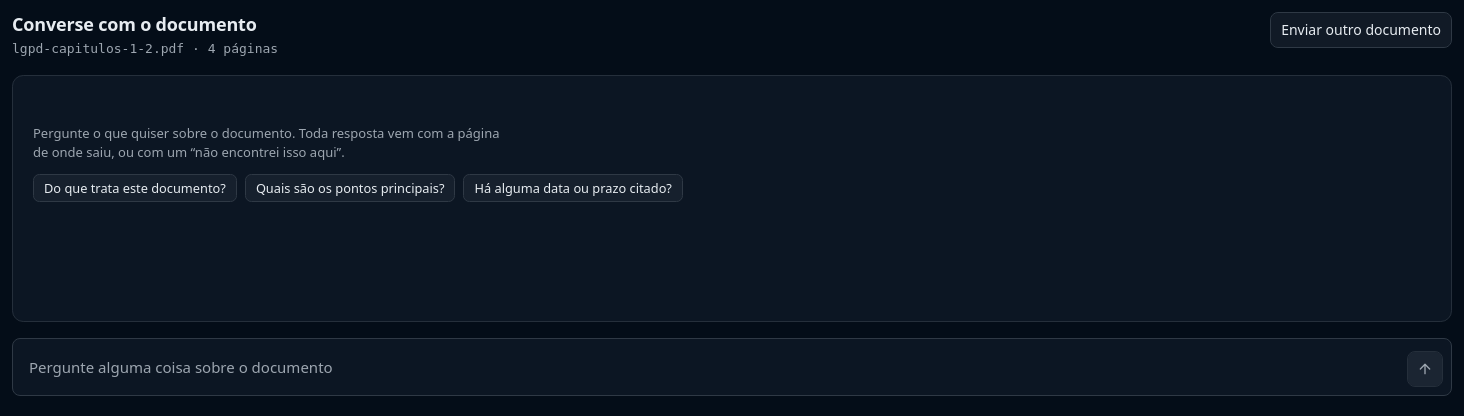
Test case: ChatView › cancela a resposta em andamento, preservando o que já chegou
Click the text box named "Sua pergunta sobre o documento".
click(710, 367)  # box 21,347 -> 1399,387
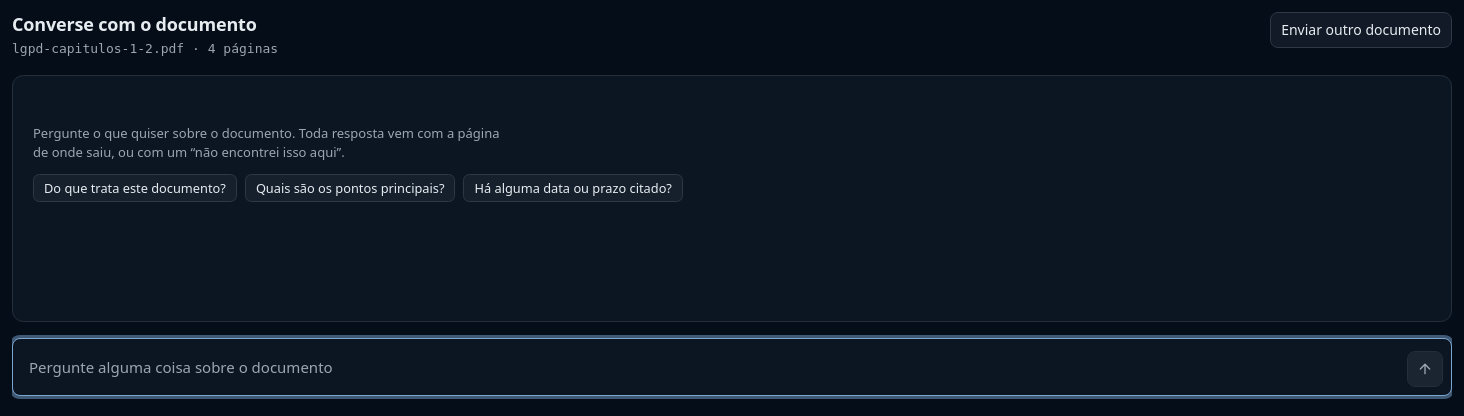
Type keys "resuma o documento{Enter}"
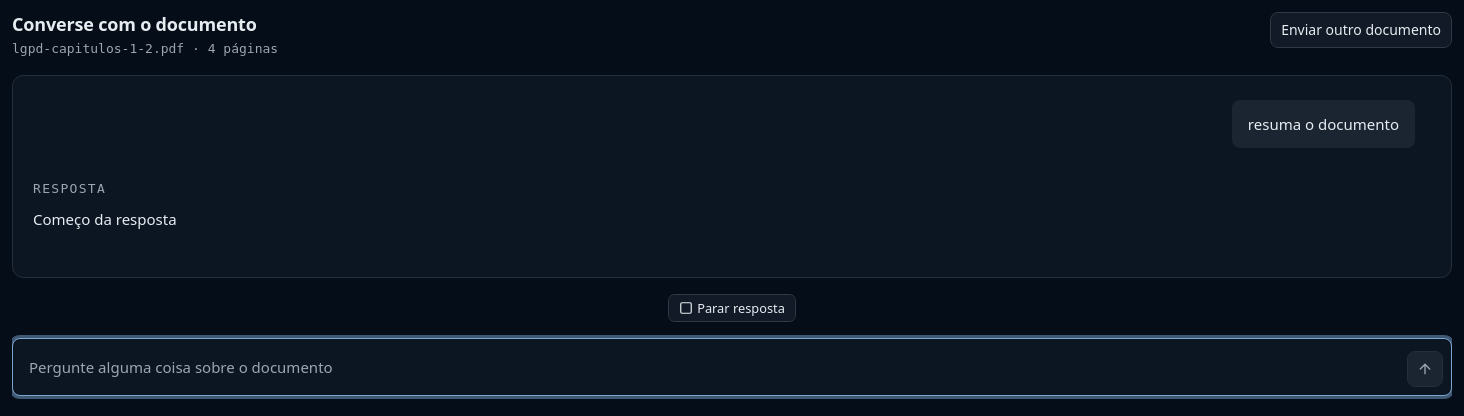
Expected: the text "Começo da resposta" is shown, 33,209 -> 177,229
Click the button "Parar resposta".
click(732, 308)  # box 668,294 -> 796,322
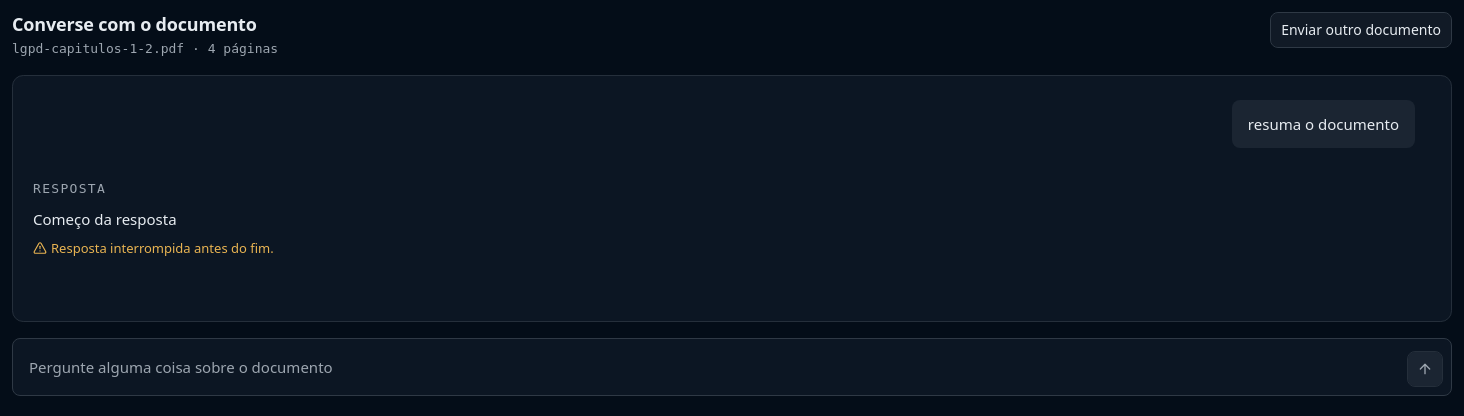
Expected: the button named "Enviar pergunta" is shown, 1407,351 -> 1443,387
Expected: the text "Começo da resposta" is shown, 33,209 -> 177,229
Expected: the button "Parar resposta" is gone
